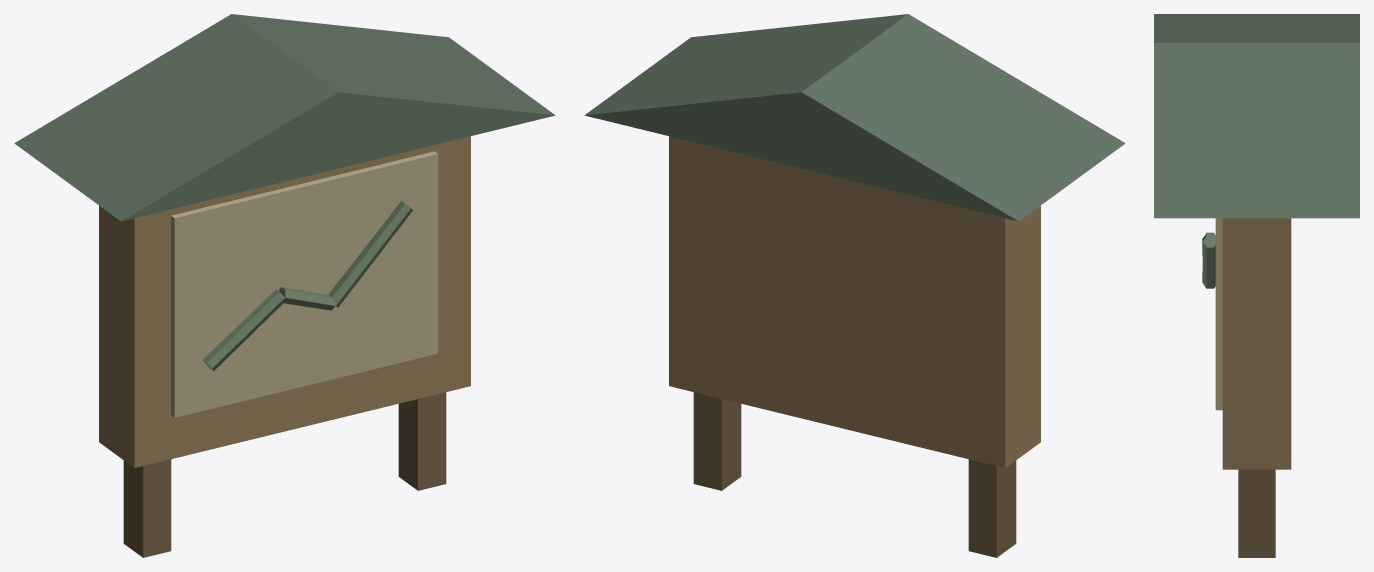
Rendered from map-exclusive-v3__ridge_04.glb.
The picture shows the model from 3 angles, left to right: view 1: azimuth 30°, elevation 25°; view 2: azimuth 150°, elevation 25°; view 3: azimuth 270°, elevation 25°; orthographic projection. The views are drawn at different scales.
Visible parts, largest first — view 1: ridge_04; view 2: ridge_04; view 3: ridge_04.
Boxes of the visible parts, box(x1,y1,x2,y2) form: ridge_04: box(14, 14, 555, 557); ridge_04: box(584, 14, 1125, 557); ridge_04: box(1154, 14, 1359, 557).
Size of the model in its own units: 1.55 by 1.57 by 0.66.
